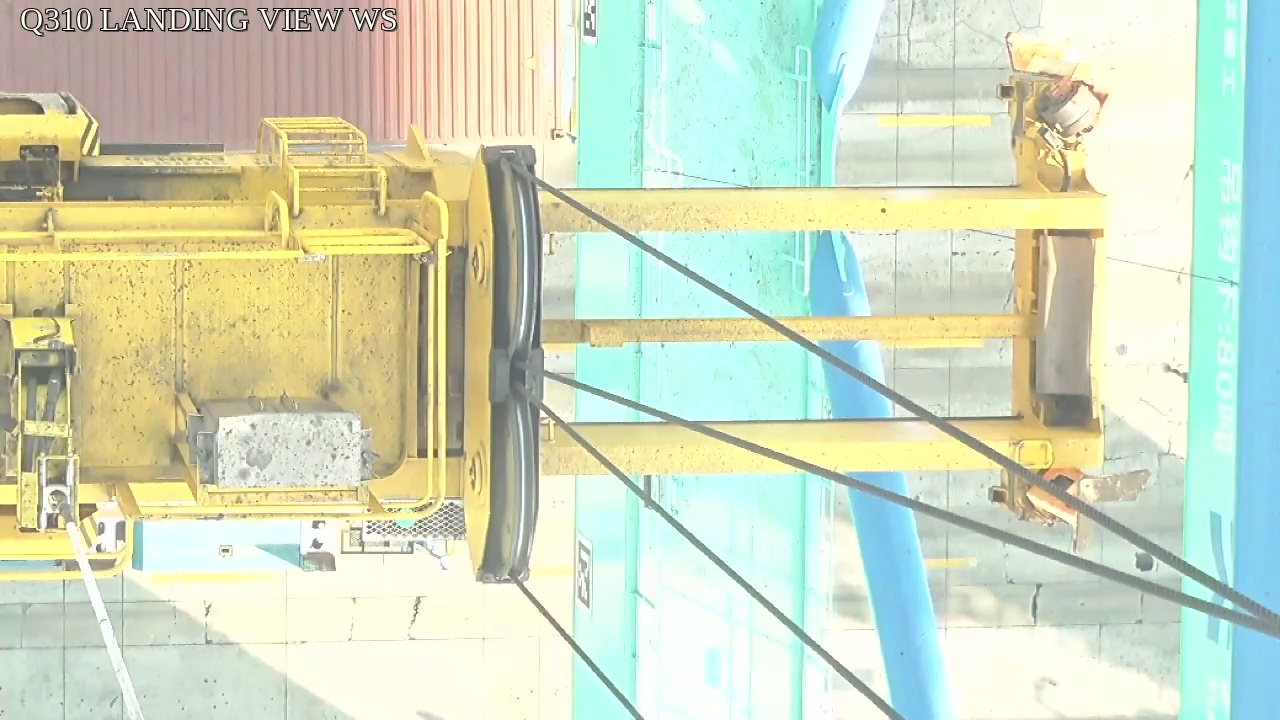right: (458, 143, 551, 587)
